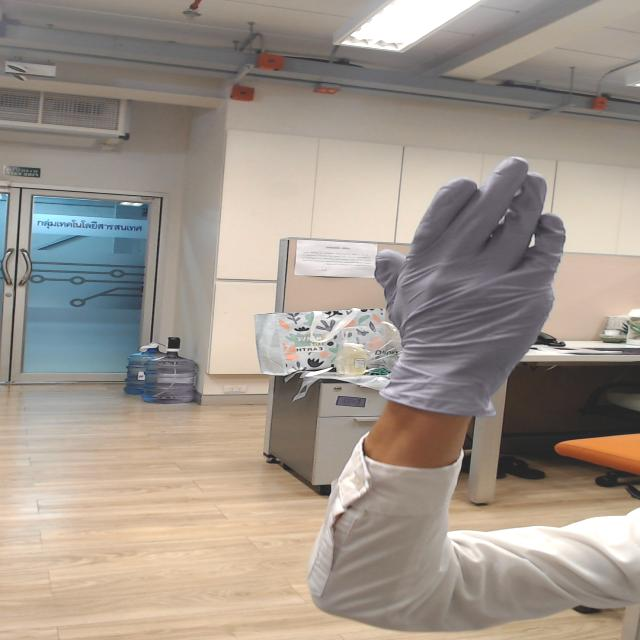glove: (354, 142, 600, 348)
